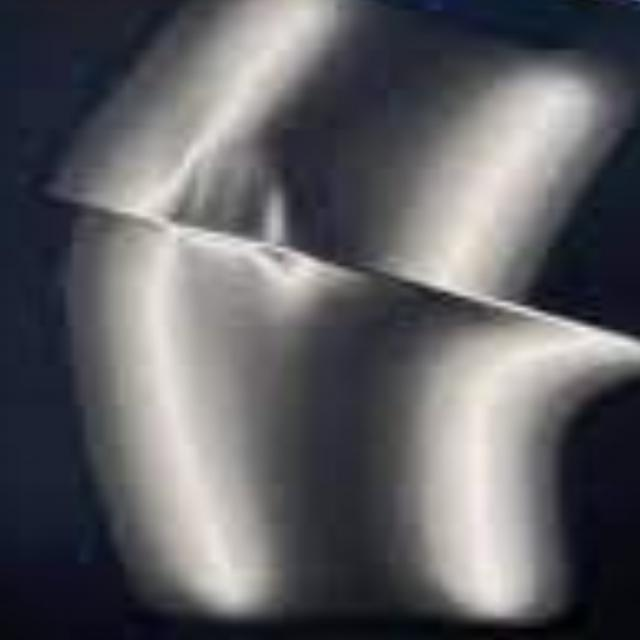dents: (130, 142, 350, 301)
